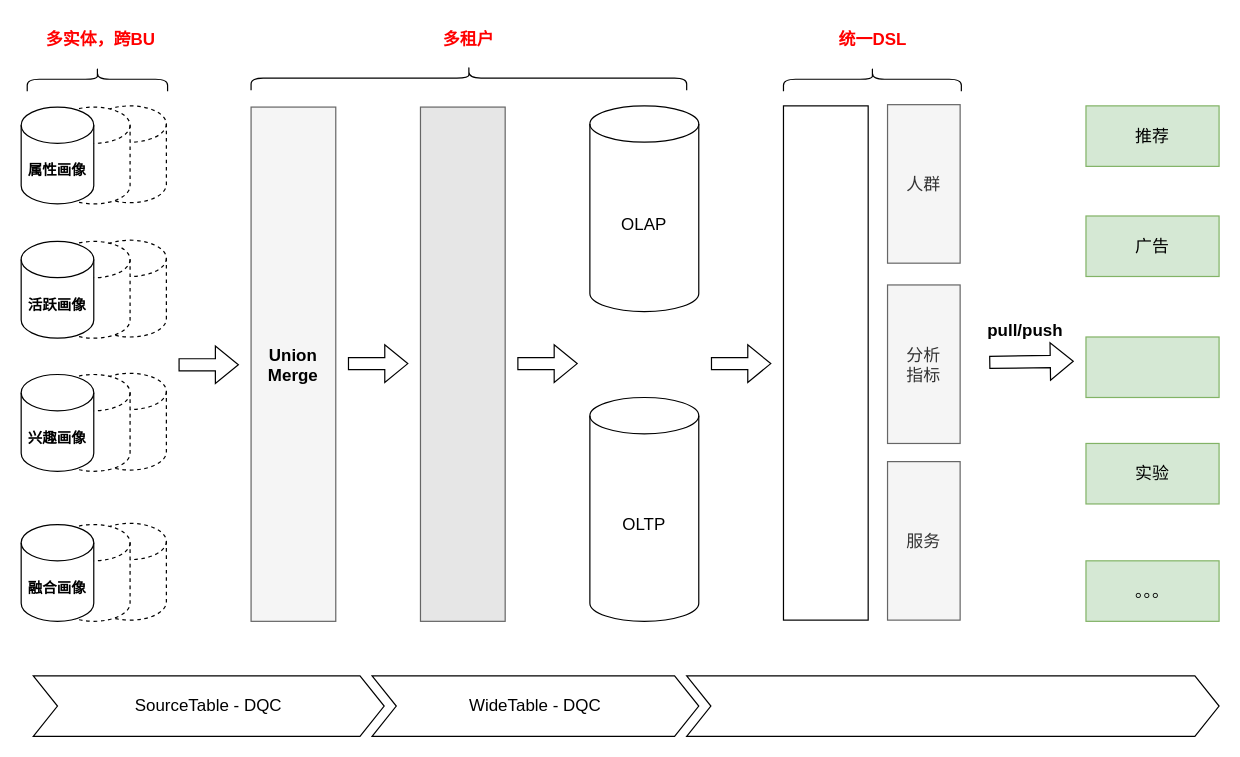
Image size: 1240x757. Some labels were removed from this diagram. The shapes that lost their labels are listed below. From the top down, each one's box as (x1, y1, x2, y2) in pixels, then its label:
(419, 106, 505, 621): Fast Load
(782, 105, 868, 620): Exporter
(1085, 336, 1219, 397): 增长
(685, 675, 1219, 736): Monitor
